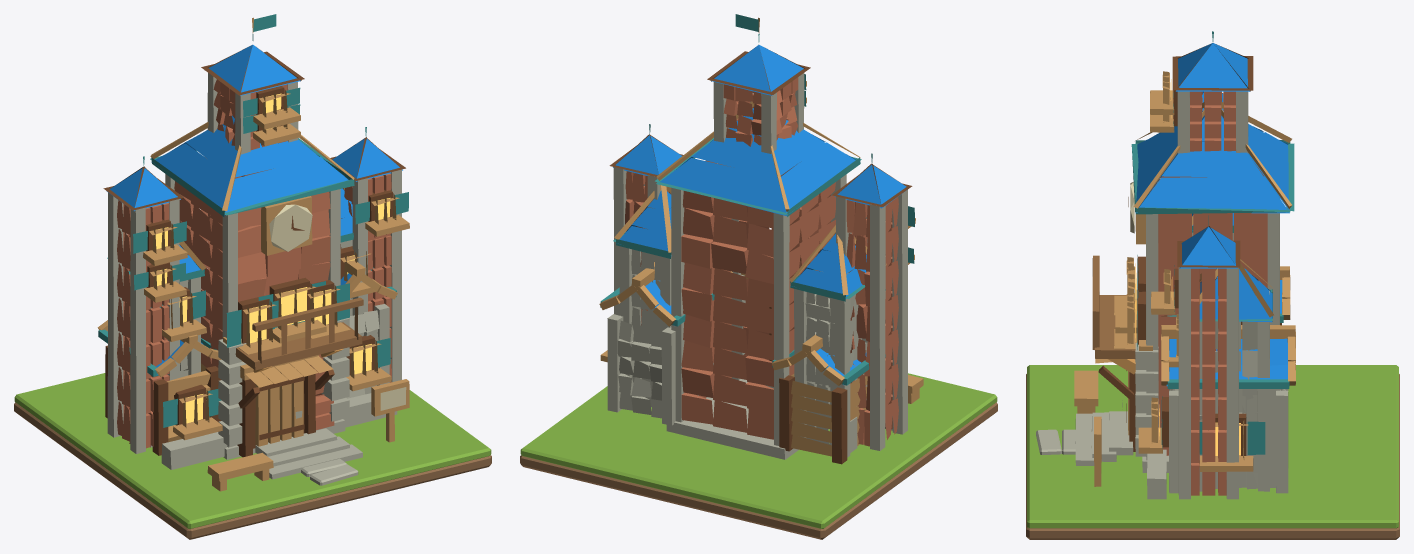
Rendered from town_hall_l11_active_LOD2.glb.
The picture shows the model from 3 angles, left to right: view 1: azimuth 30°, elevation 25°; view 2: azimuth 150°, elevation 25°; view 3: azimuth 270°, elevation 25°; orthographic projection. The views are drawn at different scales.
Visible parts, largest first — view 1: town_hall_l11_active_foundation.001, town_hall_l11_active_grass_tile.001, town_hall_l11_active_earth_tile.001, town_hall_l11_active_path_stone.005; view 2: town_hall_l11_active_foundation.001, town_hall_l11_active_grass_tile.001, town_hall_l11_active_earth_tile.001; view 3: town_hall_l11_active_foundation.001, town_hall_l11_active_grass_tile.001, town_hall_l11_active_earth_tile.001, town_hall_l11_active_path_stone.005.
Boxes of the visible parts, x1,y1,x2,y2 form: town_hall_l11_active_foundation.001: [97, 14, 409, 491]; town_hall_l11_active_grass_tile.001: [14, 373, 491, 528]; town_hall_l11_active_earth_tile.001: [14, 402, 491, 539]; town_hall_l11_active_path_stone.005: [310, 464, 358, 485]; town_hall_l11_active_foundation.001: [599, 14, 923, 464]; town_hall_l11_active_grass_tile.001: [520, 373, 997, 528]; town_hall_l11_active_earth_tile.001: [520, 402, 997, 539]; town_hall_l11_active_foundation.001: [1074, 31, 1295, 499]; town_hall_l11_active_grass_tile.001: [1027, 365, 1398, 528]; town_hall_l11_active_earth_tile.001: [1026, 374, 1399, 539]; town_hall_l11_active_path_stone.005: [1036, 429, 1061, 454].
Bounding box in the file's own units: 3.6 × 4.76 × 3.6.
